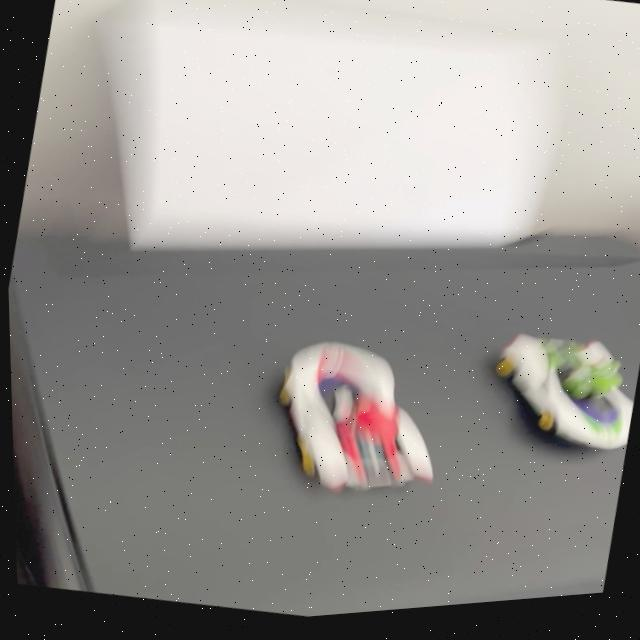mario: (245, 317, 477, 539)
yoshi: (466, 312, 640, 480)
